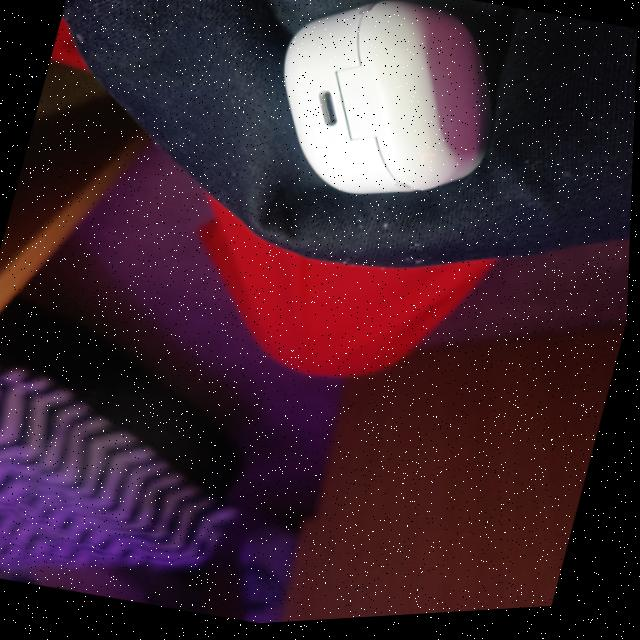headphones: (283, 4, 491, 197)
